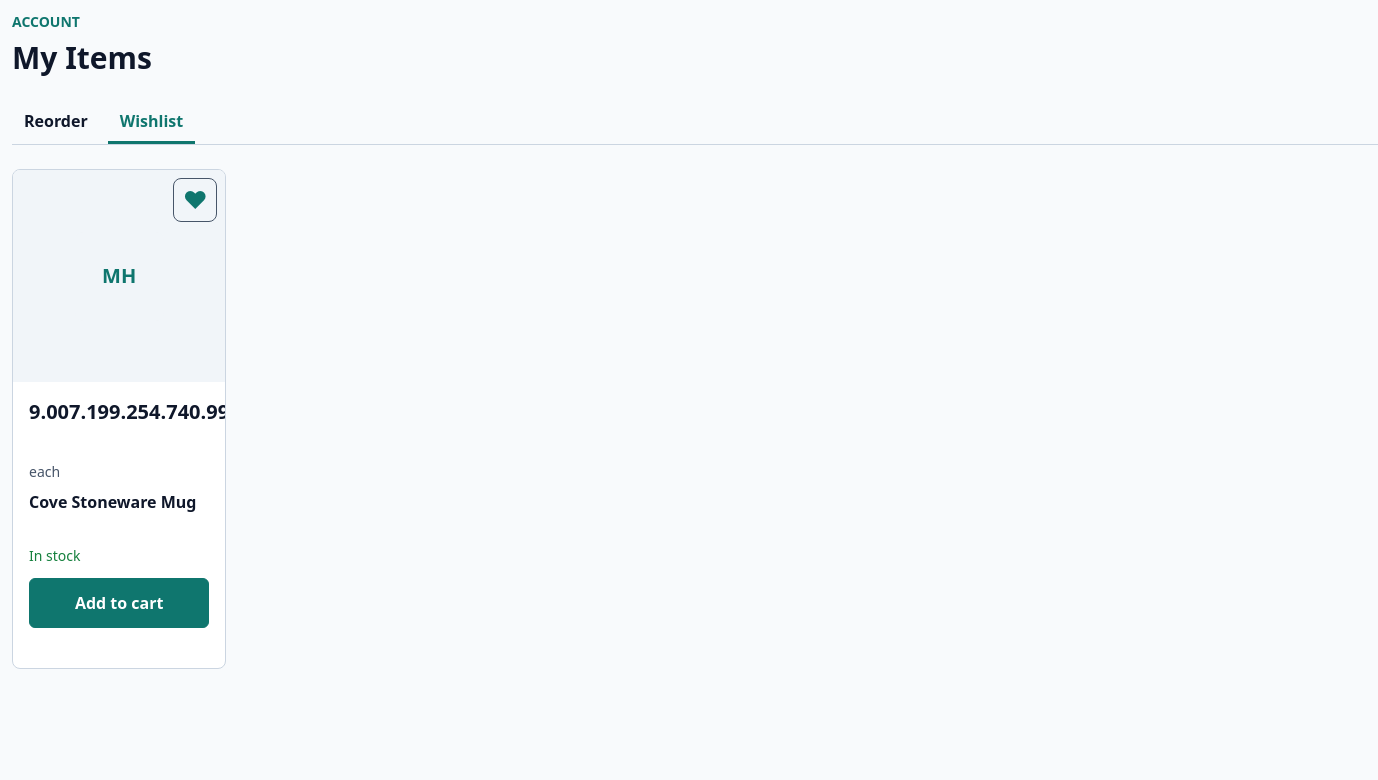
Test: M5.5 shopping interactions › rolls a failed optimistic wishlist removal back with retry feedback
Click the button "♥". click: (195, 200)
box: [173,178,217,222]
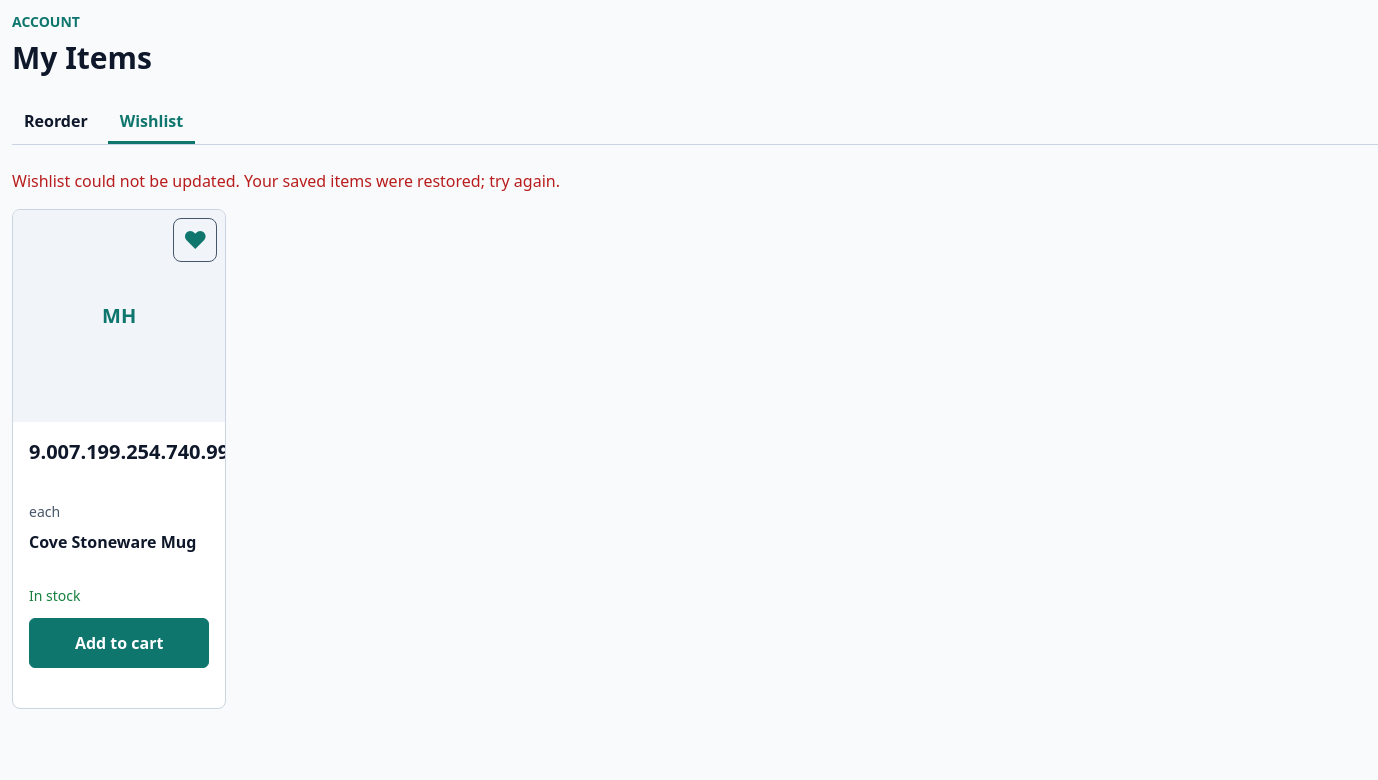
Expected: the link "Cove Stoneware Mug" is shown, [29,531,196,553]
Result: the message "Wishlist could not be updated. Your saved items were restored; try again." is shown at [12,170,560,192]
